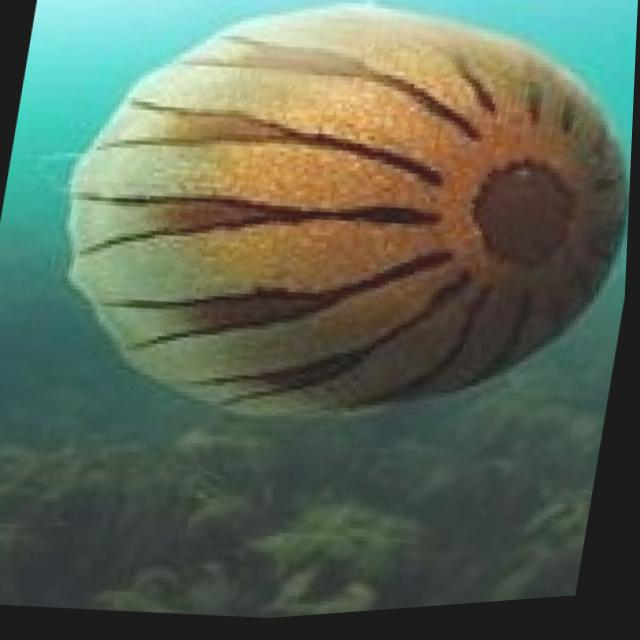Box-jellyfish: (28, 0, 640, 474)
